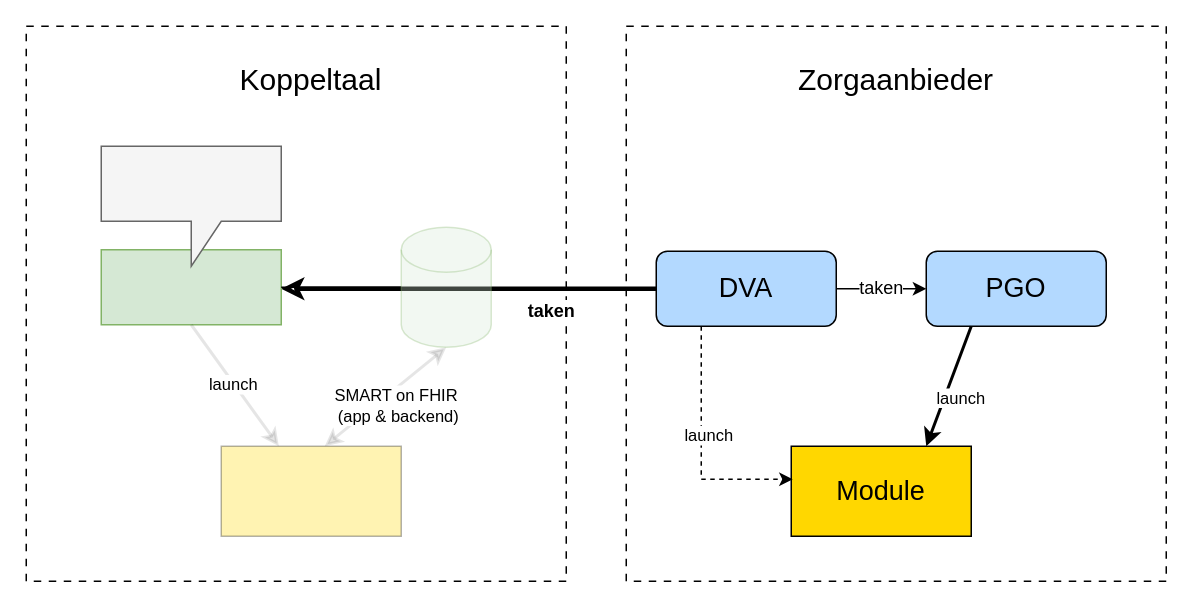
The diagram is 1193 pixels wide and 608 high, and some of its shapes have lost their labels. Here are the shapes that lost their labels. From the top down, the box of each, then its label:
(100, 145, 281, 266): Maakt taak
(100, 248, 281, 325): EPD
